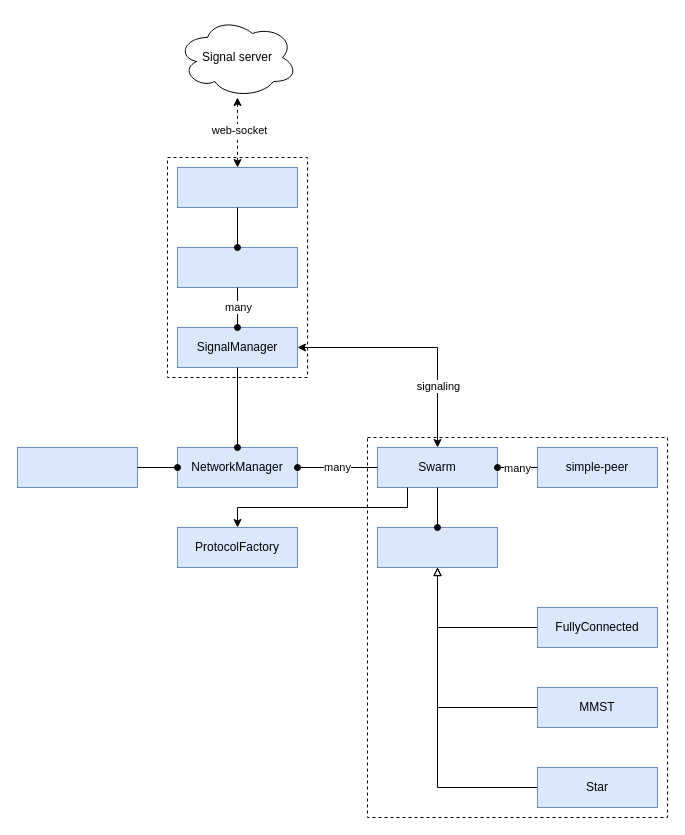
The diagram is 685 pixels wide and 835 high, and some of its shapes have lost their labels. Each missing label, with the centre of its shape:
"Metrics" goes at point (77, 467).
"nanomessage-rpc" goes at point (237, 187).
"SignalAPI" goes at point (237, 267).
"SwarmTopology" goes at point (437, 547).
